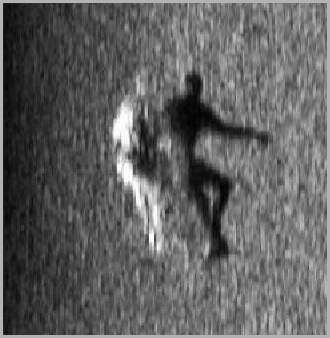man: (104, 86, 221, 259)
